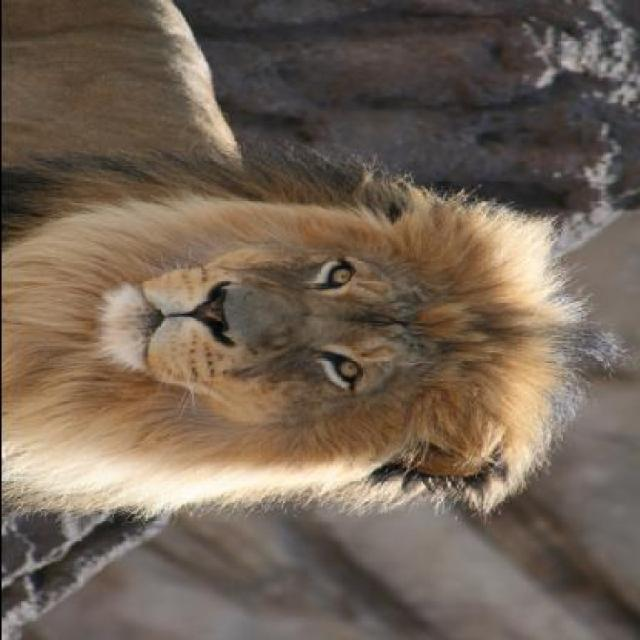Lion: (1, 1, 632, 568)
